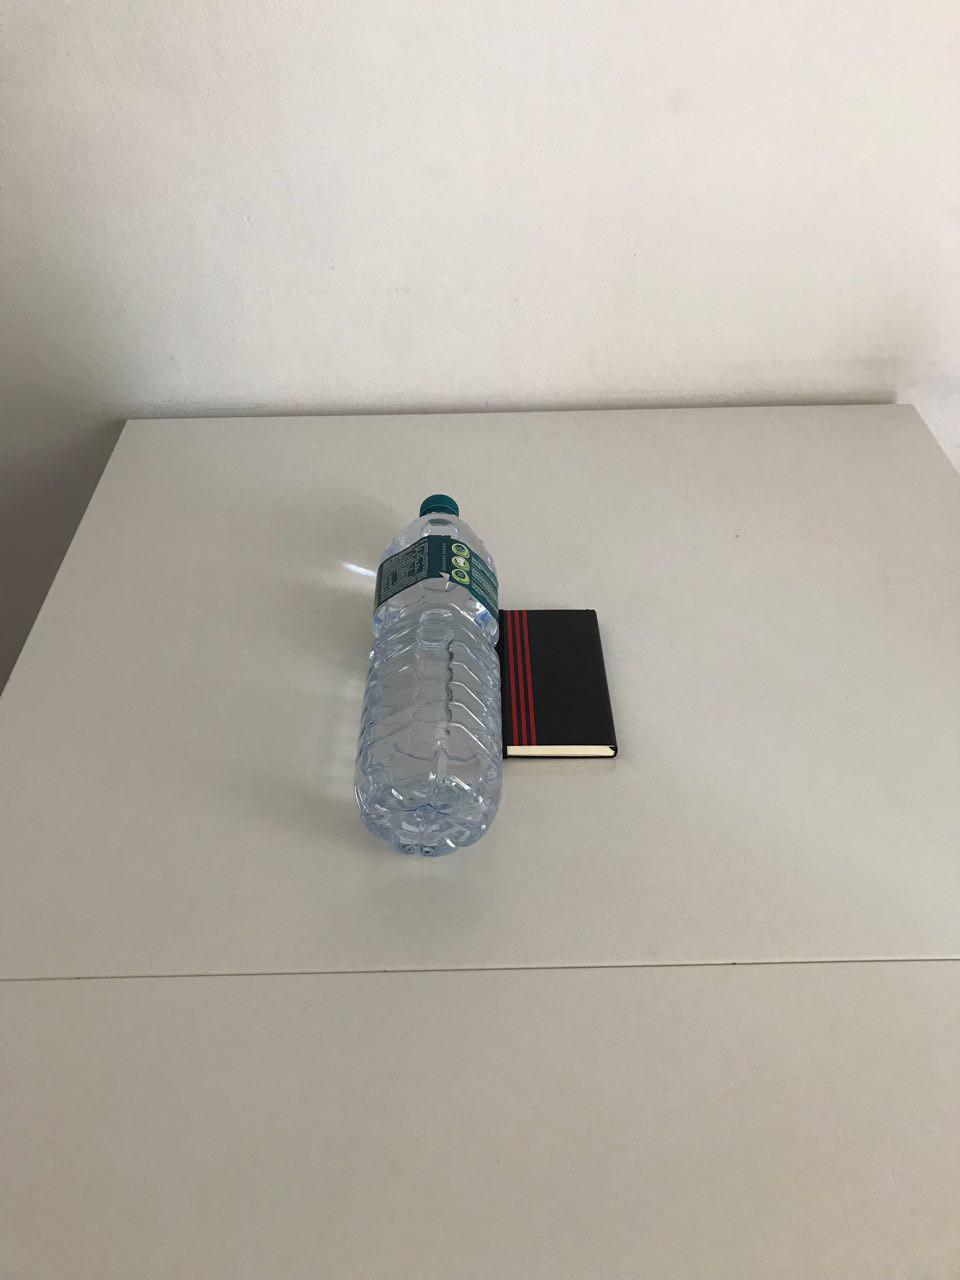san_bernardo: (353, 493, 505, 859)
